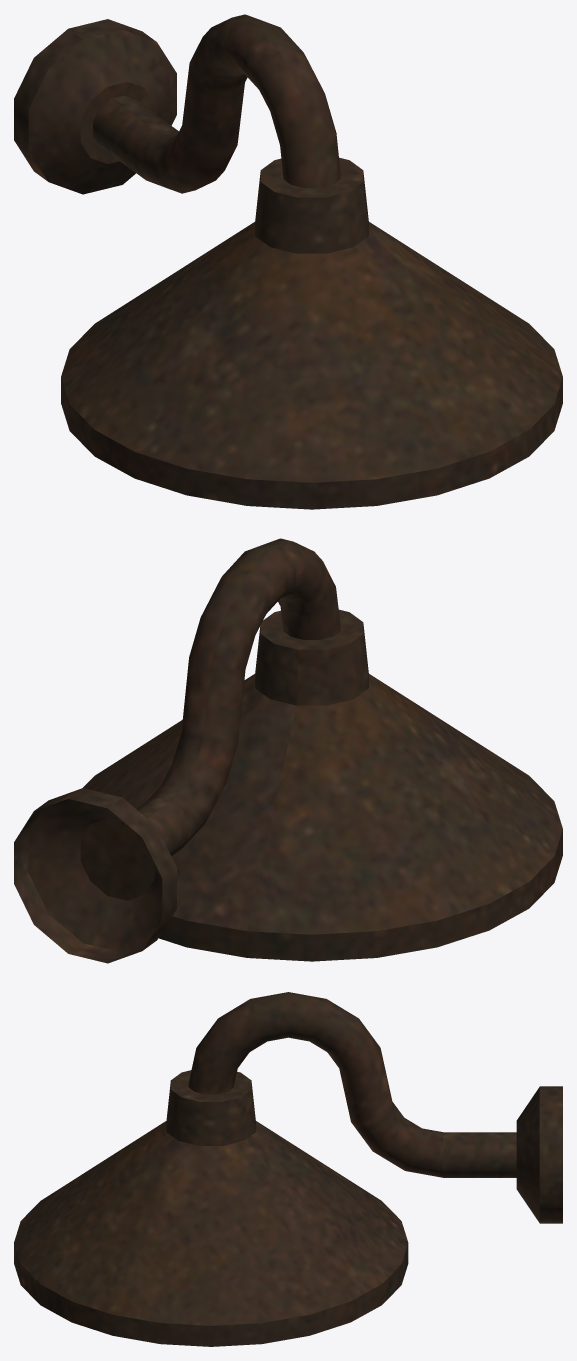
Rendered from lamp_mx_3_off.fbx.
3 renders of one model, top to bottom at view 1: azimuth 30°, elevation 25°; view 2: azimuth 150°, elevation 25°; view 3: azimuth 270°, elevation 25°, orthographic. The views are drawn at different scales.
Parts seen in each view (by area): view 1: lamp_mx_3_off; view 2: lamp_mx_3_off; view 3: lamp_mx_3_off.
Part boxes in pixels (x1,y1,x2,y2): lamp_mx_3_off: (14, 14, 562, 509); lamp_mx_3_off: (14, 538, 562, 963); lamp_mx_3_off: (14, 992, 562, 1346).
Size of the model in its own units: 0.51 by 0.71 by 0.418.
